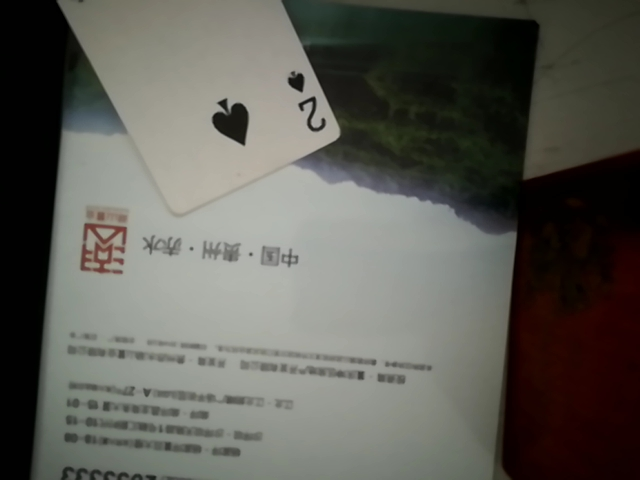ht 2: (26, 1, 329, 217)
